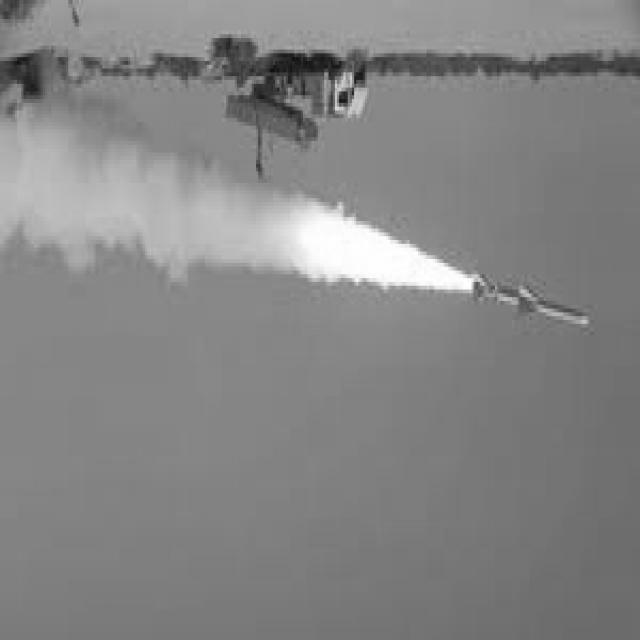Missile: (459, 271, 604, 331)
